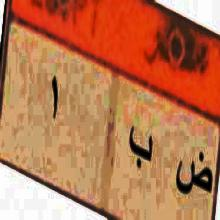1: (50, 68, 61, 130)
baa: (125, 120, 155, 178)
daad: (175, 141, 213, 206)
